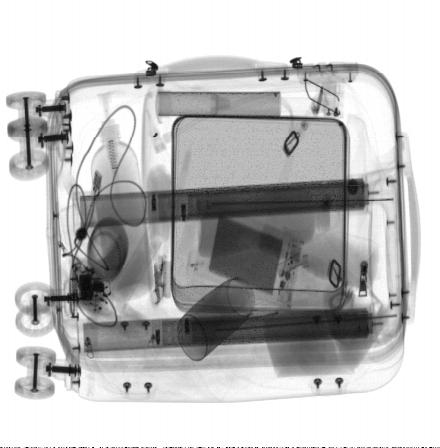Powerbank: (193, 198, 305, 311)
